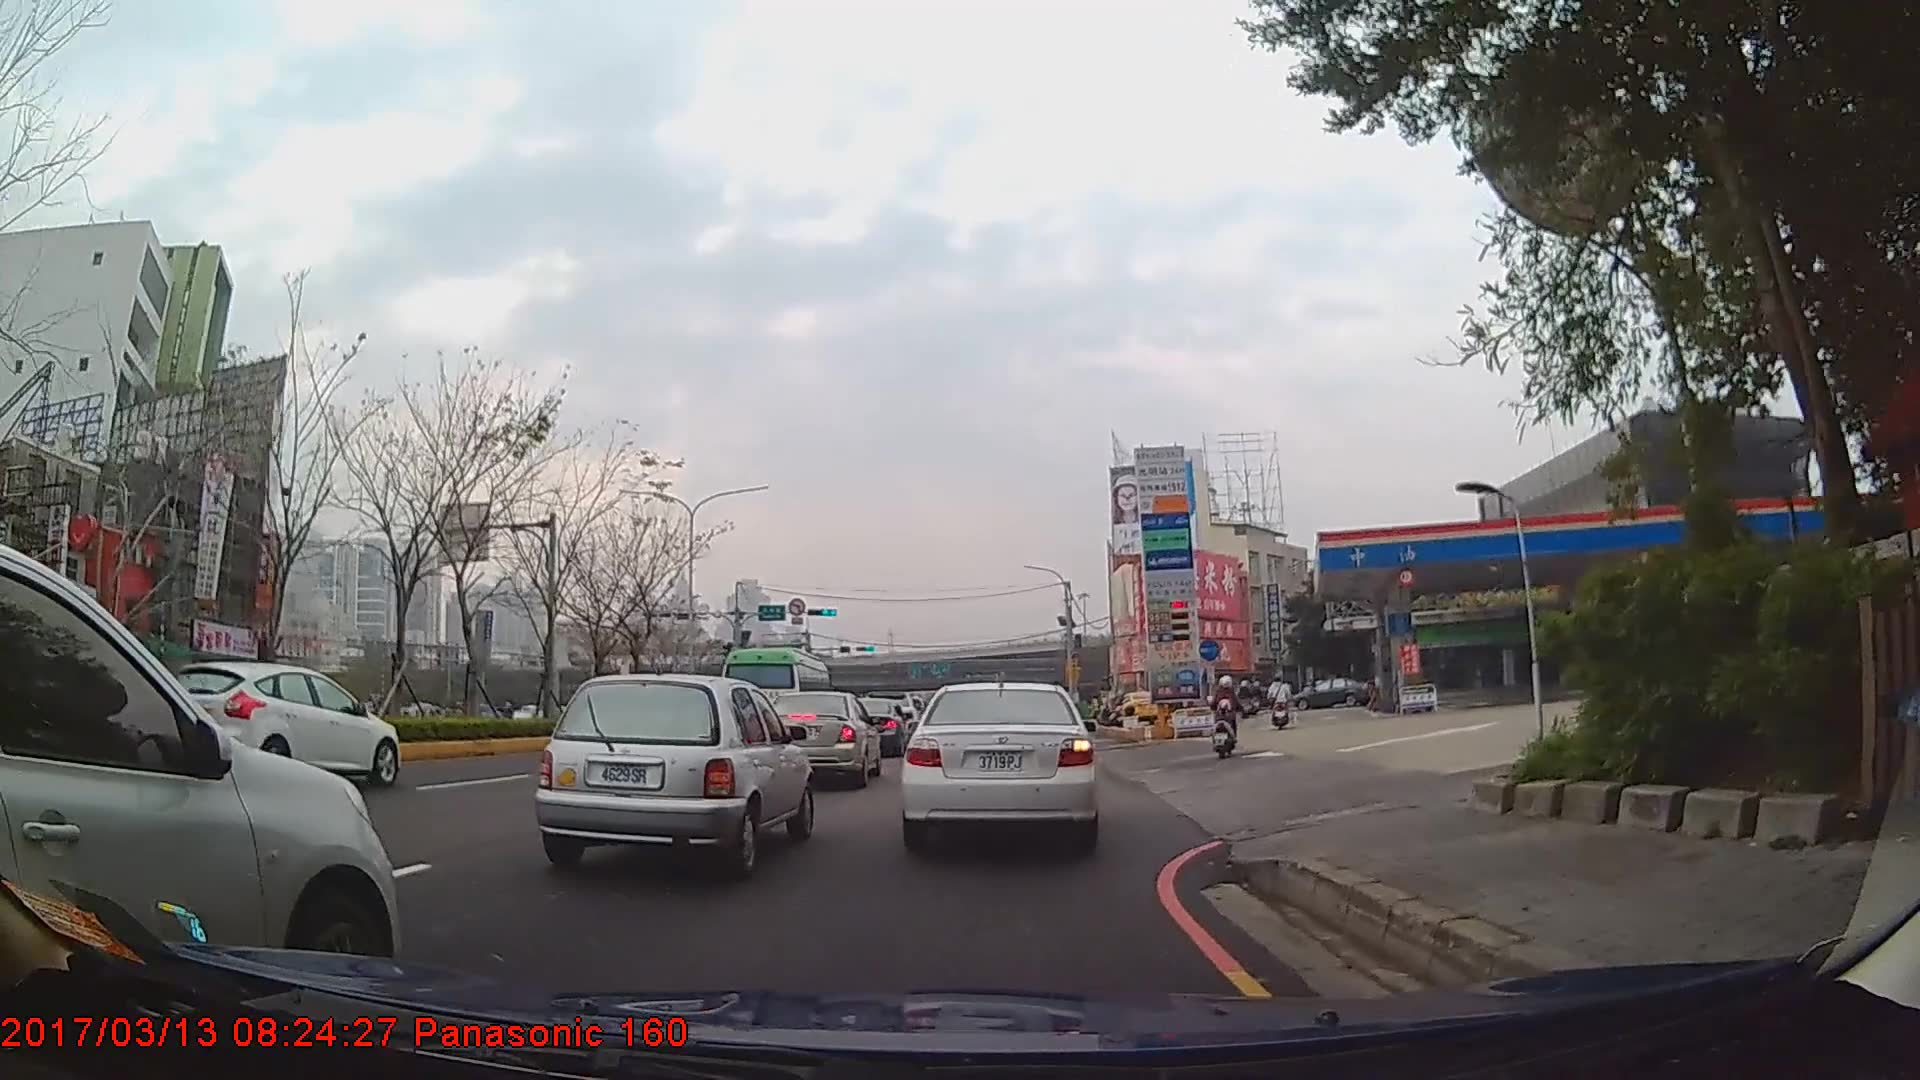rider: (1208, 674, 1242, 758), (1265, 673, 1292, 730)
vehicle: (0, 542, 401, 1006), (530, 667, 815, 876), (902, 678, 1098, 850), (162, 656, 399, 787), (753, 688, 880, 786), (719, 643, 831, 738), (838, 694, 912, 758), (1294, 675, 1370, 707), (1115, 689, 1161, 722)
